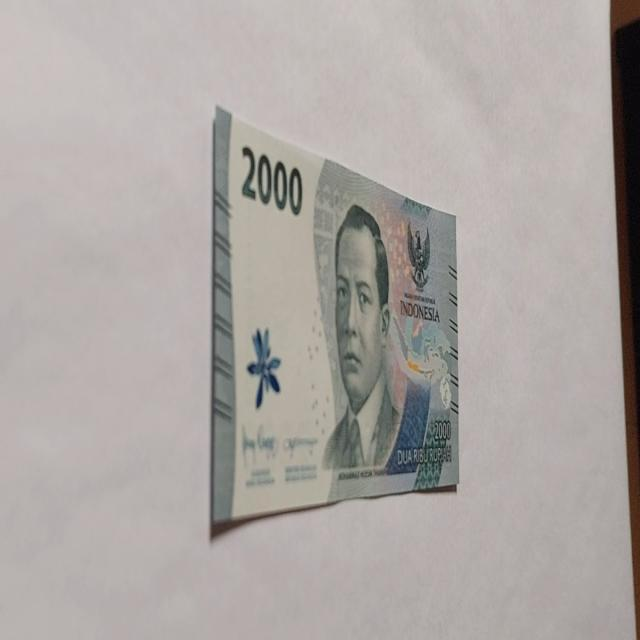dua ribu rupiah: (210, 104, 460, 532), (319, 200, 436, 498)
